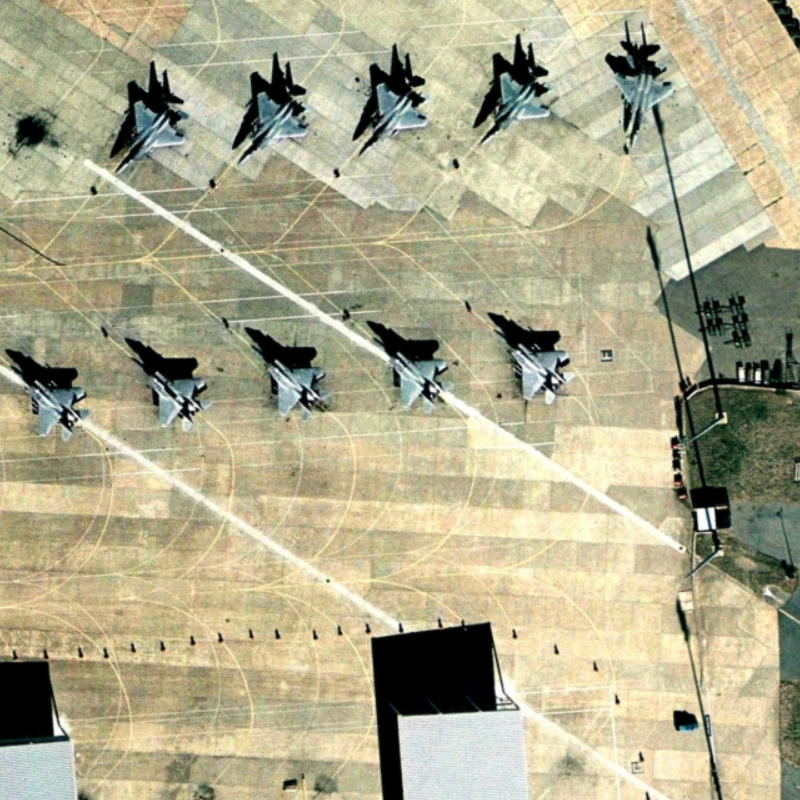A13: (362, 322, 461, 416), (487, 315, 580, 411), (2, 355, 96, 448), (597, 50, 677, 159), (243, 336, 337, 425), (126, 350, 216, 439), (472, 58, 554, 155), (229, 77, 311, 171), (109, 89, 194, 178), (352, 66, 431, 161)
